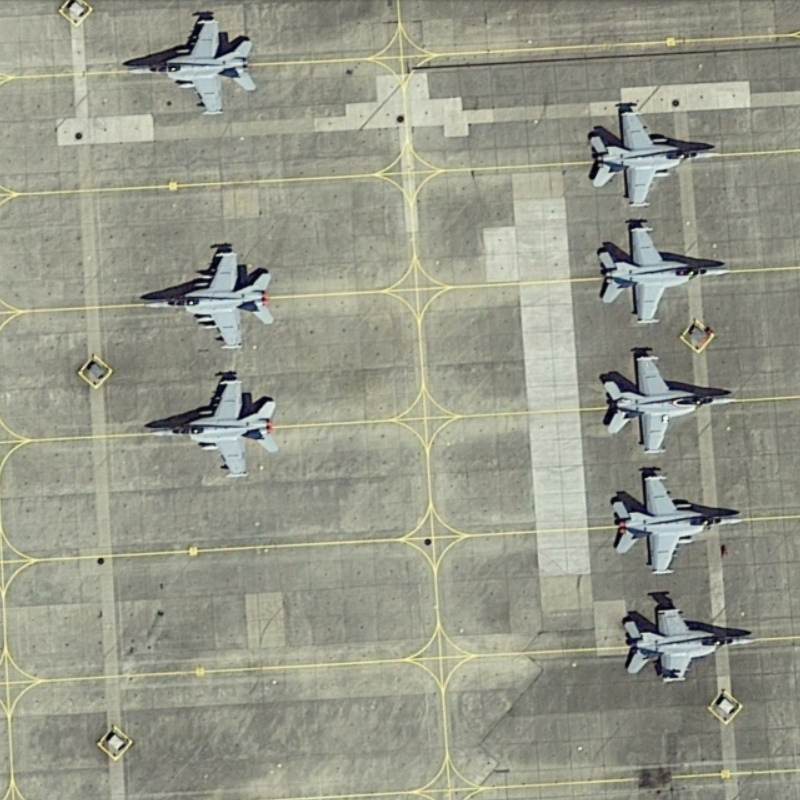A16: (126, 239, 285, 357), (131, 365, 284, 486), (106, 8, 265, 122), (584, 214, 734, 333), (581, 96, 722, 216), (594, 344, 739, 460), (604, 466, 743, 580), (617, 592, 764, 696)
